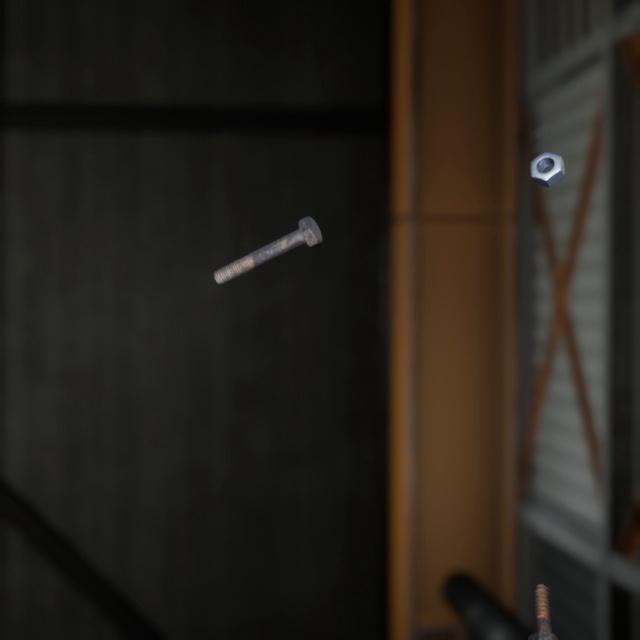bolt: (209, 195, 327, 273), (524, 556, 563, 635)
nut: (525, 133, 569, 178)
